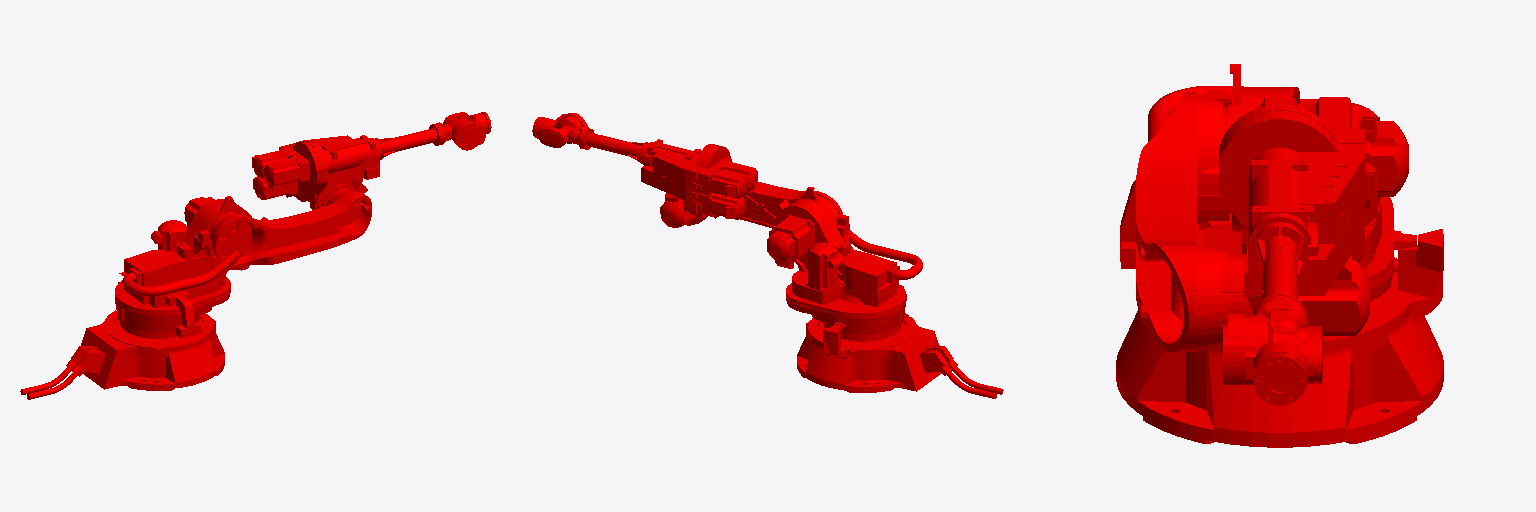
URDF robot description (NM45_Mesh):
<?xml version="1.0" ?>
<!-- =================================================================================== -->
<!-- |    This document was autogenerated by xacro from NM45_mesh.xacro                | -->
<!-- |    EDITING THIS FILE BY HAND IS NOT RECOMMENDED                                 | -->
<!-- =================================================================================== -->
<robot name="NM45_Mesh" xmlns:xacro="http://ros.org/wiki/xacro">
  <link name="base_link">
    <visual>
      <geometry>
        <mesh filename="package://comau_config/meshes/visual/NM-45_Base.STL"/>
      </geometry>
      <material name="red">
        <color rgba="1 0 0 1"/>
      </material>
    </visual>
    <collision>
      <geometry>
        <mesh filename="package://comau_config/meshes/collision/NM-45_Base_CH.STL"/>
      </geometry>
      <material name="yellow">
        <color rgba="0 1 1 1"/>
      </material>
    </collision>
  </link>
  <link name="link1">
    <visual>
      <origin rpy="0 0 0" xyz="0 0 0"/>
      <geometry>
        <mesh filename="package://comau_config/meshes/visual/NM-45_Link1.STL"/>
      </geometry>
      <material name="red">
        <color rgba="1 0 0 1"/>
      </material>
    </visual>
    <collision>
      <origin rpy="0 0 0" xyz="0 0 0"/>
      <geometry>
        <mesh filename="package://comau_config/meshes/collision/NM-45_Link1_CH.STL"/>
      </geometry>
      <material name="yellow"/>
    </collision>
  </link>
  <link name="link2">
    <visual>
      <origin rpy="0 0 0" xyz="0 0 0"/>
      <geometry>
        <mesh filename="package://comau_config/meshes/visual/NM-45_Link2.STL"/>
      </geometry>
      <material name="red"/>
    </visual>
    <collision>
      <origin rpy="0 0 0" xyz="0 0 0"/>
      <geometry>
        <mesh filename="package://comau_config/meshes/collision/NM-45_Link2_CH.STL"/>
      </geometry>
      <material name="yellow"/>
    </collision>
  </link>
  <link name="link3">
    <visual>
      <origin rpy="0 0 0" xyz="0 0 0"/>
      <geometry>
        <mesh filename="package://comau_config/meshes/visual/NM-45_Link3.STL"/>
      </geometry>
      <material name="red"/>
    </visual>
    <collision>
      <origin rpy="0 0 0" xyz="0 0 0"/>
      <geometry>
        <mesh filename="package://comau_config/meshes/collision/NM-45_Link3_CH.STL"/>
      </geometry>
      <material name="yellow"/>
    </collision>
  </link>
  <link name="link4">
    <visual>
      <origin rpy="0 0 0" xyz="0 0 0"/>
      <geometry>
        <mesh filename="package://comau_config/meshes/visual/NM-45_Link4.STL"/>
      </geometry>
      <material name="red"/>
    </visual>
    <collision>
      <origin rpy="0 0 0" xyz="0 0 0"/>
      <geometry>
        <mesh filename="package://comau_config/meshes/collision/NM-45_Link4_CH.STL"/>
      </geometry>
      <material name="yellow"/>
    </collision>
  </link>
  <link name="link5">
    <visual>
      <origin rpy="0 0 0" xyz="0 0 0"/>
      <geometry>
        <mesh filename="package://comau_config/meshes/visual/NM-45_Link5.STL"/>
      </geometry>
      <material name="red"/>
    </visual>
    <collision>
      <origin rpy="0 0 0" xyz="0 0 0"/>
      <geometry>
        <mesh filename="package://comau_config/meshes/collision/NM-45_Link5_CH.STL"/>
      </geometry>
      <material name="yellow"/>
    </collision>
  </link>
  <link name="link6">
    <visual>
      <origin rpy="0 0 0" xyz="0 0 0"/>
      <geometry>
        <mesh filename="package://comau_config/meshes/visual/NM-45_Link6.STL"/>
      </geometry>
      <material name="red"/>
    </visual>
    <collision>
      <origin rpy="0 0 0" xyz="0 0 0"/>
      <geometry>
        <mesh filename="package://comau_config/meshes/collision/NM-45_Link6_CH.STL"/>
      </geometry>
      <material name="yellow"/>
    </collision>
  </link>
  <joint name="joint_1" type="revolute">
    <parent link="base_link"/>
    <child link="link1"/>
    <origin rpy="0 0 0" xyz="0 0 0.305"/>
    <axis xyz="0 0 -1"/>
    <limit effort="100" lower="-3.1416" upper="3.1416" velocity="2.26"/>
  </joint>
  <joint name="joint_2" type="revolute">
    <parent link="link1"/>
    <child link="link2"/>
    <origin rpy="0 0 0" xyz="0.4 -0.130 0.445"/>
    <axis xyz="0 1 0"/>
    <limit effort="100" lower="-1.91" upper="1.91" velocity="2.26"/>
  </joint>
  <joint name="joint_3" type="revolute">
    <parent link="link2"/>
    <child link="link3"/>
    <origin rpy="0 0 0" xyz="0.75 0.01 0"/>
    <axis xyz="0 -1 0"/>
    <limit effort="100" lower="-2.96" upper="2.96" velocity="2.96"/>
  </joint>
  <joint name="joint_4" type="revolute">
    <parent link="link3"/>
    <child link="link4"/>
    <origin rpy="0 0 0" xyz="0.234 0.120 0.250"/>
    <axis xyz="-1 0 0"/>
    <limit effort="100" lower="-2.26" upper="2.26" velocity="2.96"/>
  </joint>
  <joint name="joint_5" type="revolute">
    <parent link="link4"/>
    <child link="link5"/>
    <origin rpy="0 0 0" xyz="0.578 0 0"/>
    <axis xyz="0 1 0"/>
    <limit effort="100" lower="-3.1416" upper="3.1416" velocity="3.48"/>
  </joint>
  <joint name="joint_6" type="revolute">
    <parent link="link5"/>
    <child link="link6"/>
    <origin rpy="0 0 0" xyz="0.150 0 0"/>
    <axis xyz="-1 0 0"/>
    <limit effort="100" lower="-1.91" upper="1.91" velocity="3.48"/>
  </joint>
</robot>

--- What the picture shows (computed from the rendered views, not written in the file) ---
The picture shows the robot from 3 angles, left to right: view 1: azimuth 30°, elevation 25°; view 2: azimuth 150°, elevation 25°; view 3: azimuth 270°, elevation 25°; orthographic projection.
Robot: NM45_Mesh — 7 links, 6 joints (6 revolute); root link base_link; default pose: all joints at 0.
Links seen in each view (by area): view 1: link1, base_link, link2, link3, link4, link5; view 2: link1, base_link, link3, link2, link4, link5; view 3: base_link, link3, link2, link1, link4, link5, link6.
Boxes of the visible links, x1,y1,x2,y2 form: link1: [115, 196, 251, 337]; base_link: [20, 282, 224, 399]; link2: [211, 190, 371, 267]; link3: [252, 135, 379, 209]; link4: [375, 119, 469, 159]; link5: [443, 112, 487, 150]; link1: [767, 187, 922, 336]; base_link: [797, 313, 1003, 398]; link3: [637, 139, 757, 227]; link2: [714, 181, 842, 228]; link4: [556, 116, 647, 159]; link5: [536, 113, 588, 147]; base_link: [1116, 229, 1443, 447]; link3: [1219, 97, 1376, 335]; link2: [1136, 92, 1229, 351]; link1: [1120, 64, 1416, 301]; link4: [1244, 221, 1306, 344]; link5: [1223, 313, 1322, 384]; link6: [1253, 353, 1307, 405].
Size in the robot's own frame: 3.02 by 0.75 by 1.14 metres.
7 mesh visuals loaded from 7 distinct referenced files (7 binary STL).